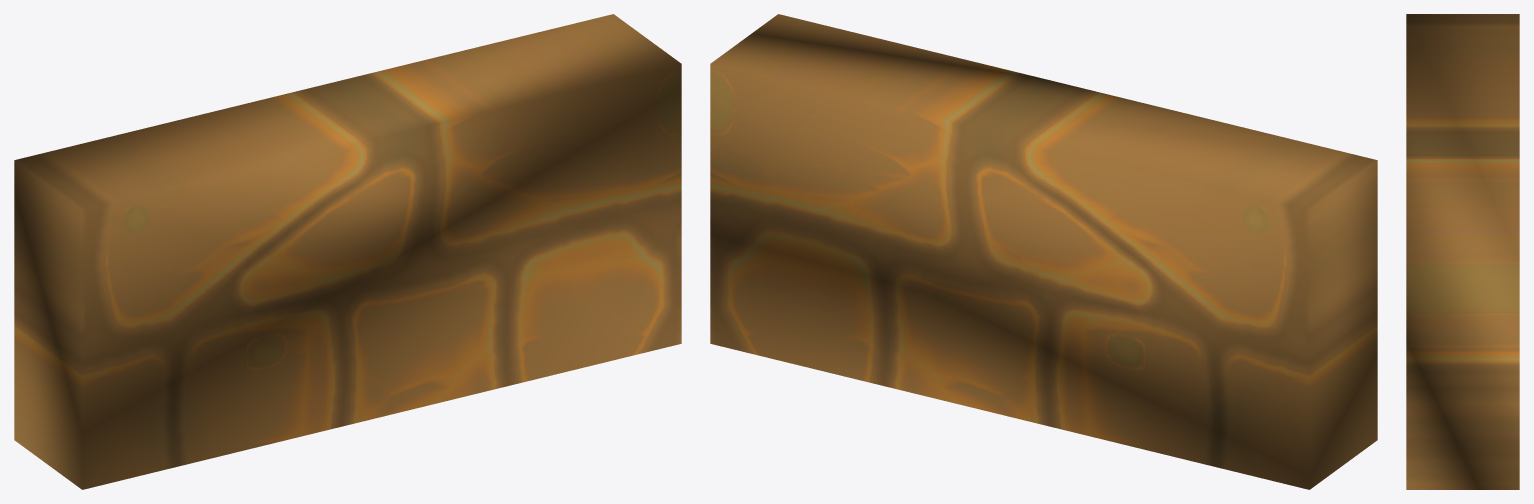
Rendered from sandDungeonDoor2.glb.
3 views of the same model, side by side, from view 1: azimuth 30°, elevation 25°; view 2: azimuth 150°, elevation 25°; view 3: azimuth 270°, elevation 25° (orthographic). The views are drawn at different scales.
Visible parts, largest first — view 1: sandDoor2; view 2: sandDoor2; view 3: sandDoor2.
Part boxes in pixels (x1,y1,x2,y2): sandDoor2: (14, 14, 681, 489); sandDoor2: (710, 14, 1377, 489); sandDoor2: (1406, 14, 1519, 489).
Size of what is drawn, in the model's own units: 3.65 by 1.63 by 0.72.
1 material, 1 textured.
